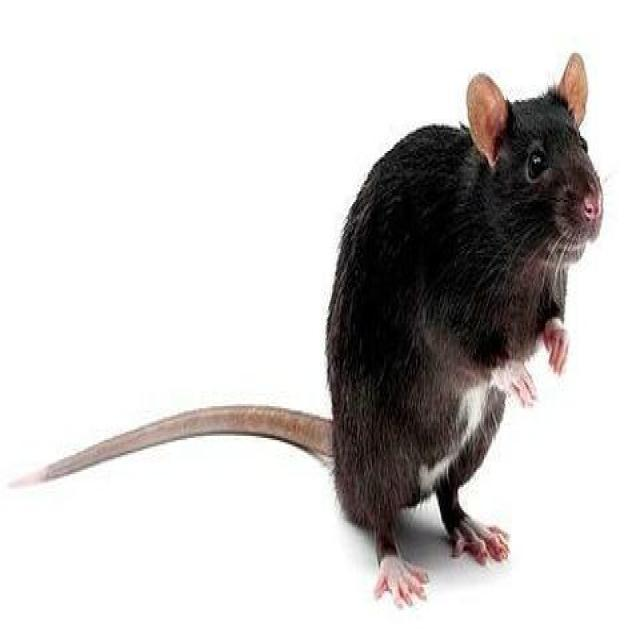rat: (322, 43, 606, 625)
